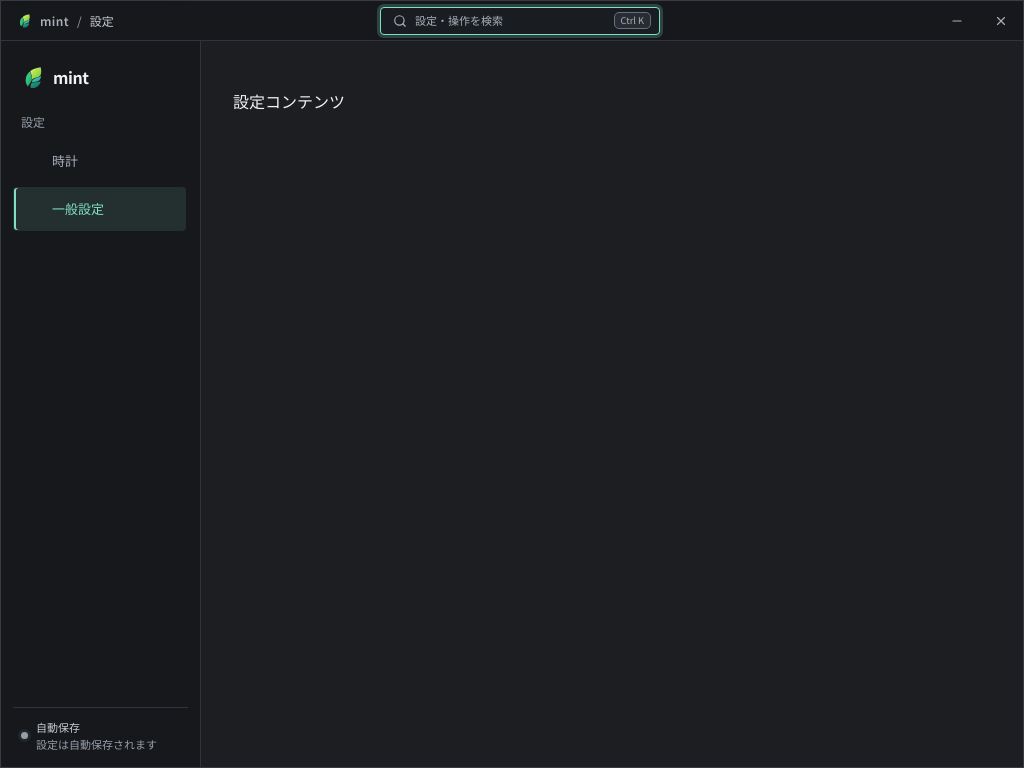
Test: AppShell › opens the settings switcher from the title bar and filters by keywords
Click the button with aria-label "クイックランチャーを開く" at (459, 20), box [380,6,660,34]
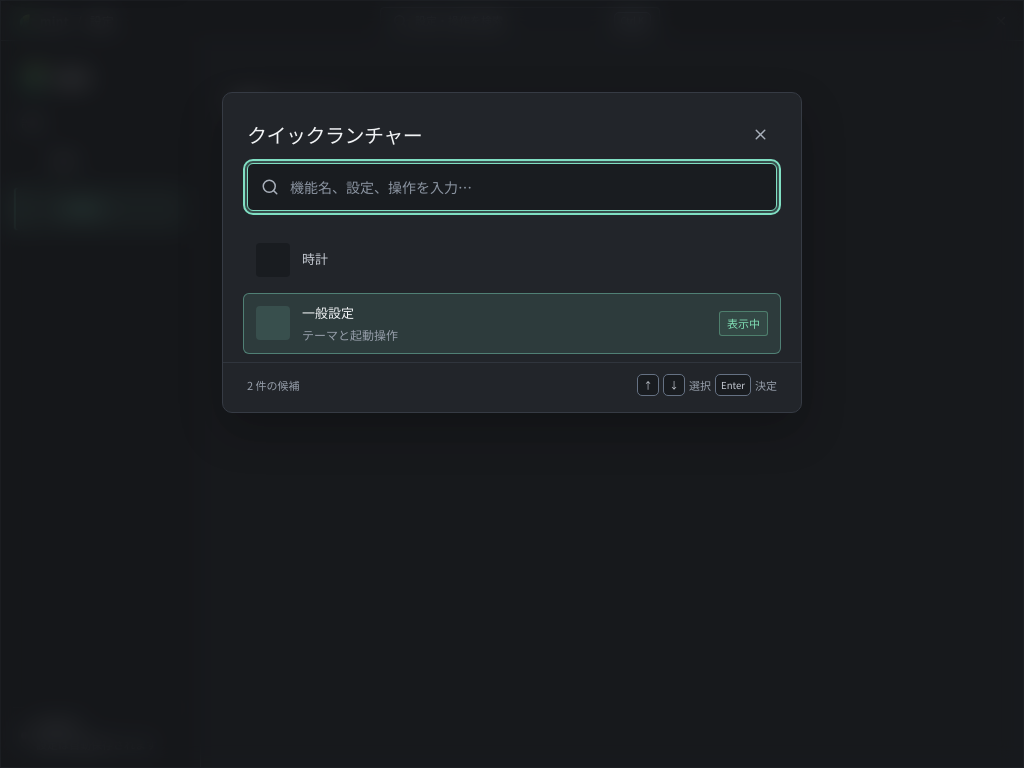
Expected: the dialog "クイックランチャー" is shown, [222,92,802,413]
Type "analog" into the dropdown named "設定や項目、操作を検索" at (512, 187), box [247,163,777,211]
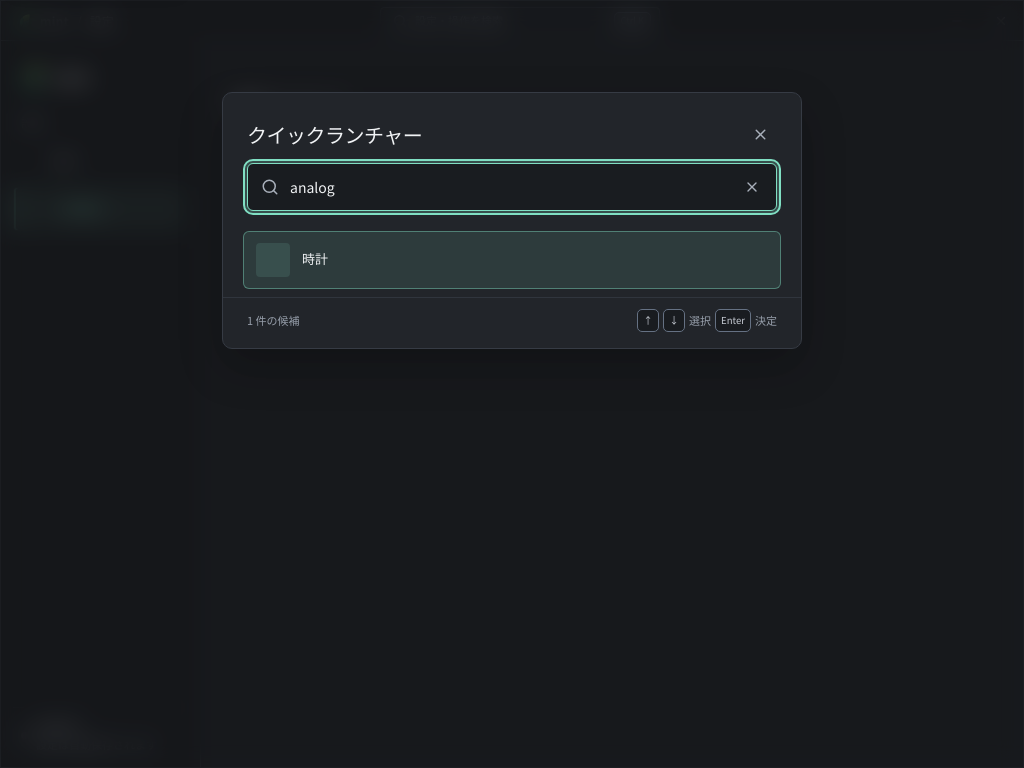
Expected: the number of options is 1, [243,231,781,289]
Expected: the option reads "時計", [243,231,781,289]
Press Enter in the dropdown named "設定や項目、操作を検索", box [247,163,777,211]
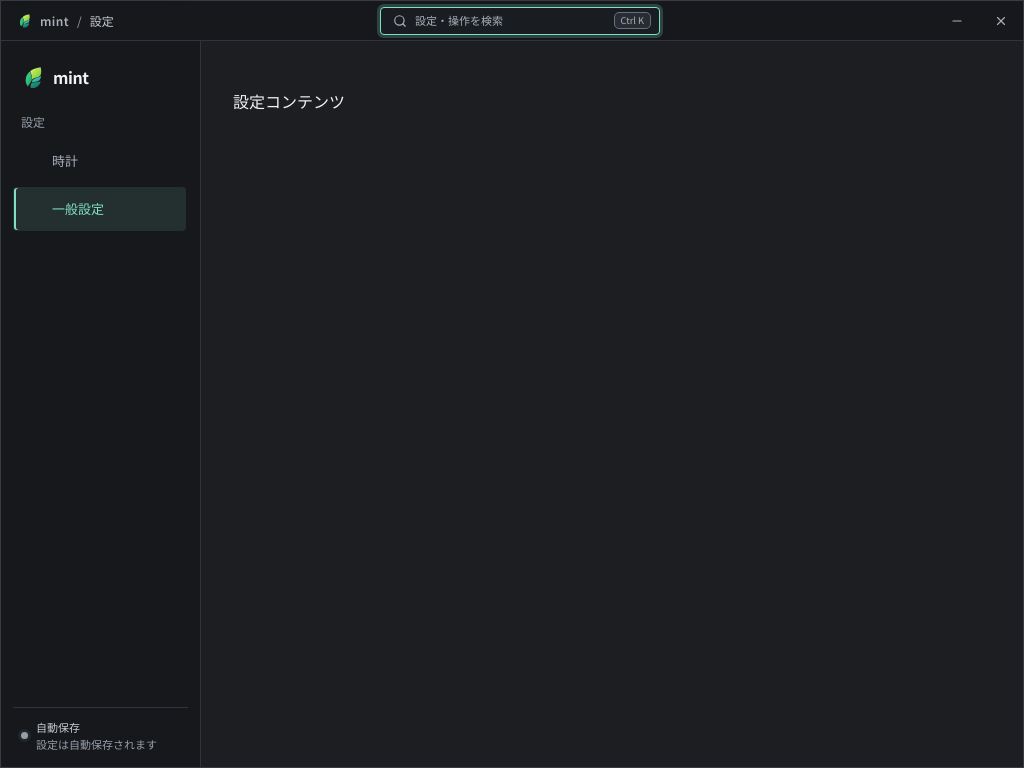
Expected: the heading "クイックランチャー" is gone
